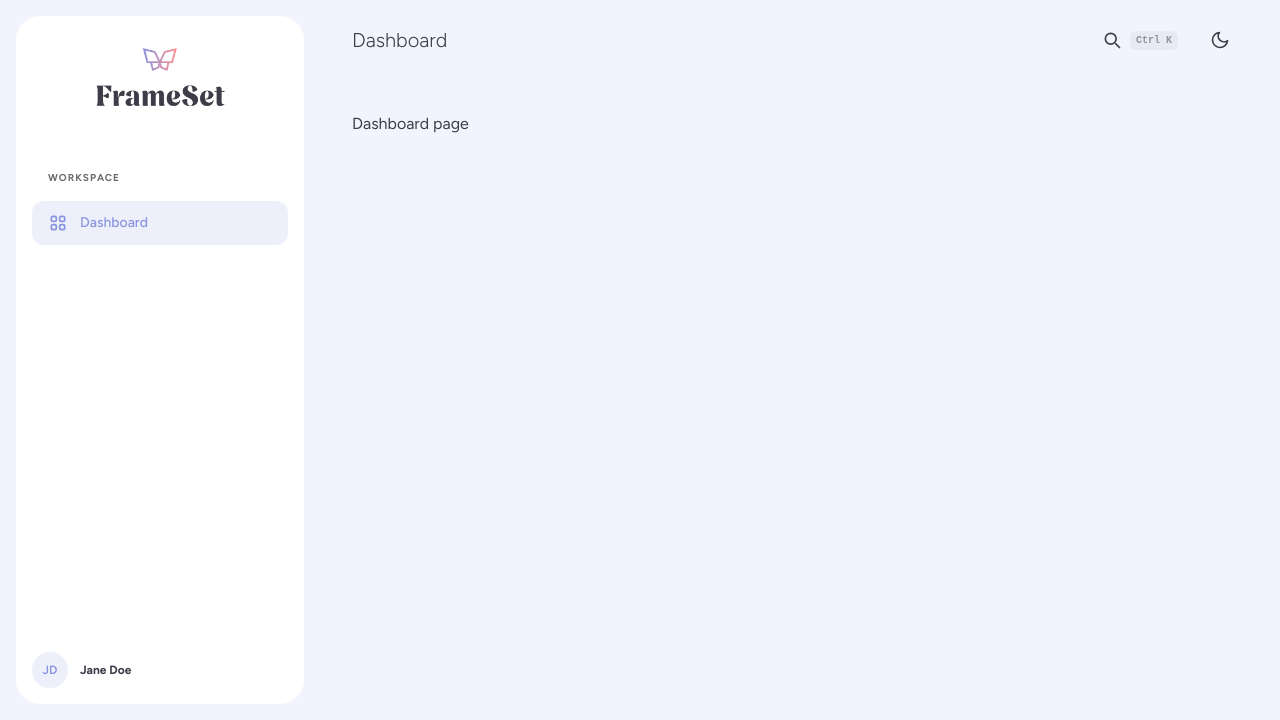
MainLayout global search › opens with Ctrl+K, closes with Escape, and opens via the header button
The width and height of the screenshot is (1280, 720).
Type keys "{Control>}k{/Control}"
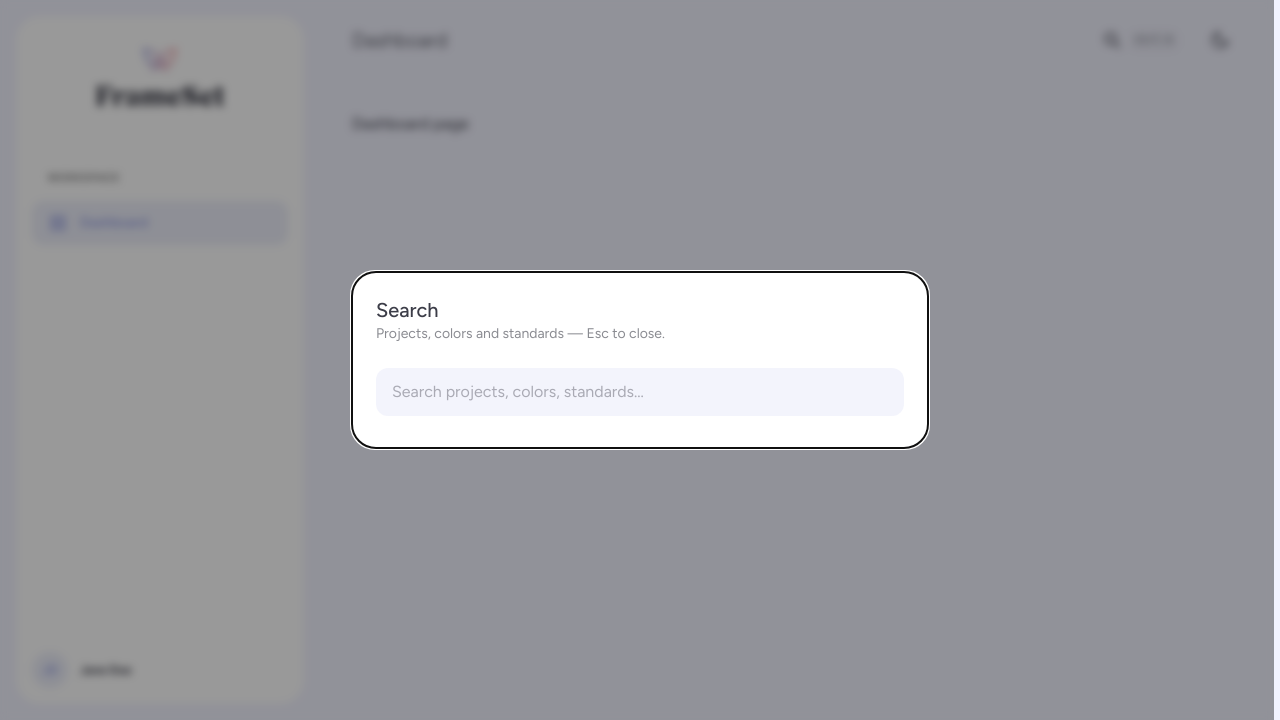
Expected: the search field is shown, [376,368,904,416]
Press Escape
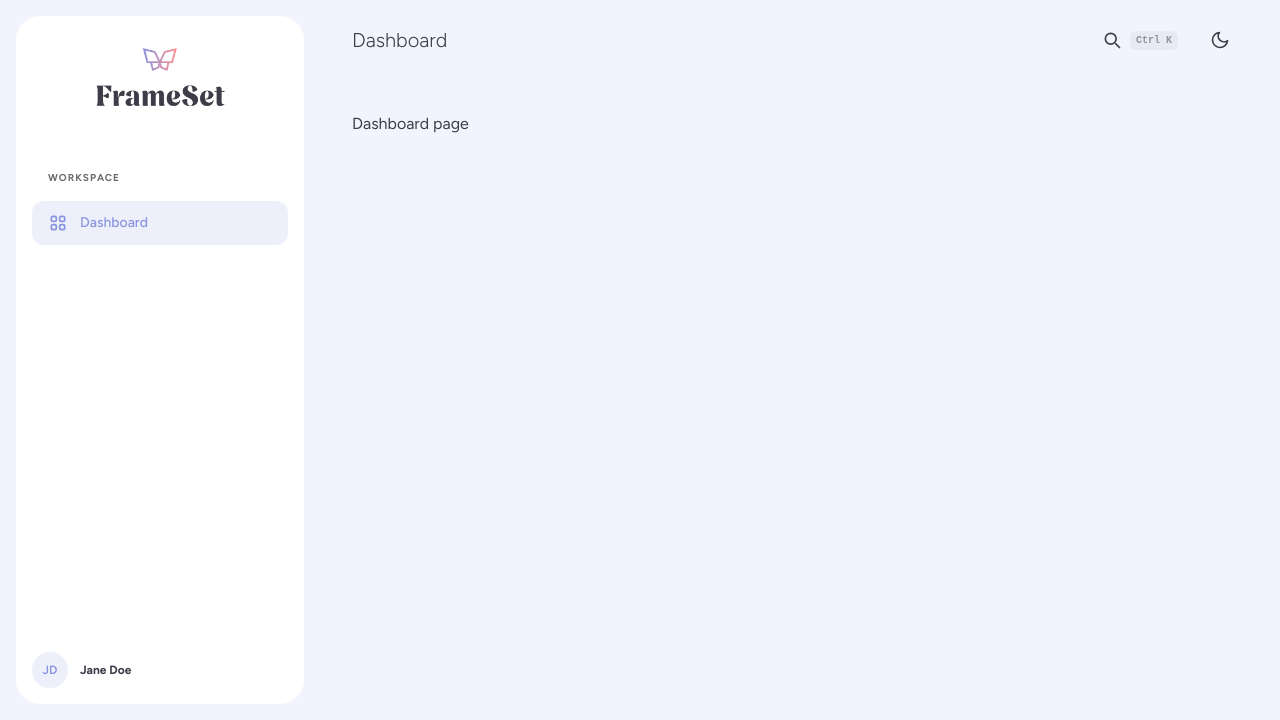
Click the button with aria-label "search": [1140, 40] box [1090,22,1190,58]
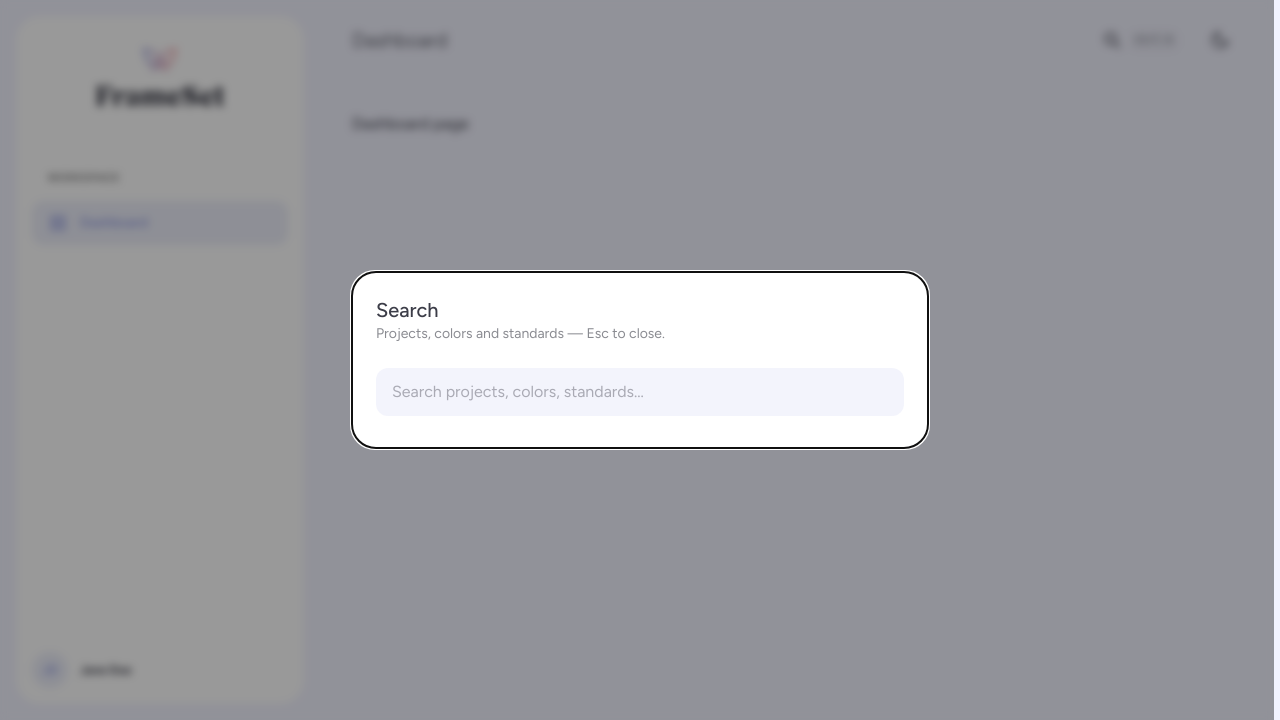
Expected: the search field is shown, [376,368,904,416]
